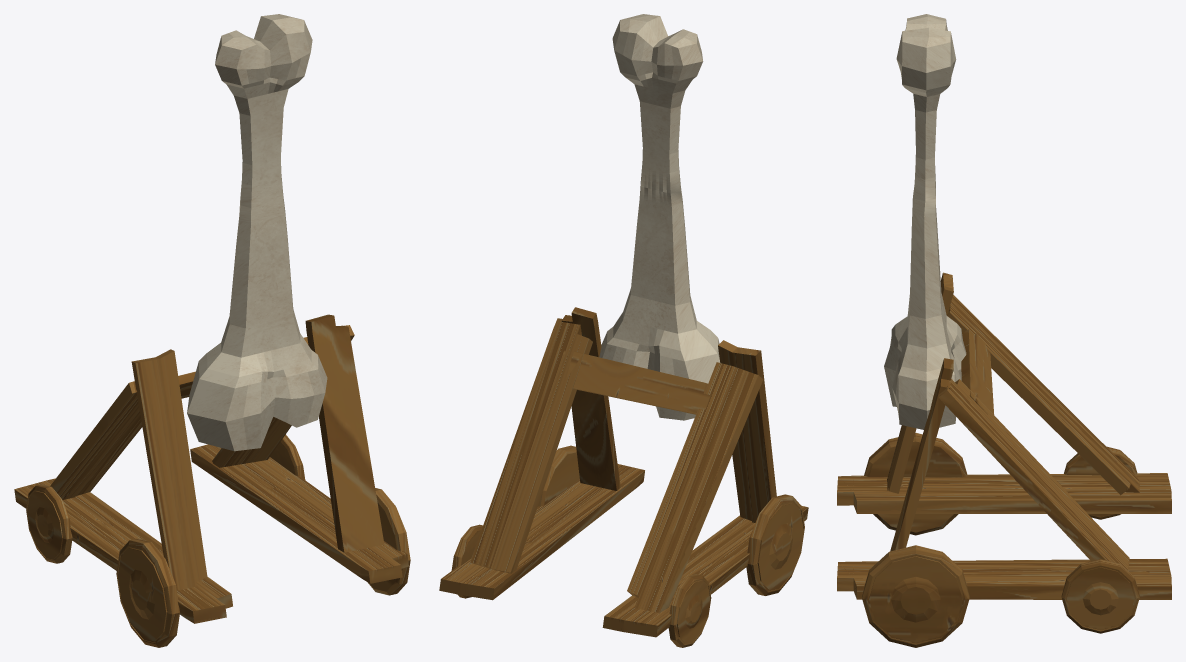
The model's file is BoneCrush.fbx.
3 views of the same model, side by side, from view 1: azimuth 30°, elevation 25°; view 2: azimuth 150°, elevation 25°; view 3: azimuth 270°, elevation 25° (orthographic). The views are drawn at different scales.
Parts seen in each view (by area): view 1: Wood, BoneTypeShi; view 2: Wood, BoneTypeShi; view 3: Wood, BoneTypeShi.
Part boxes in pixels (bbox=[...]): Wood: bbox=[14, 314, 410, 647]; BoneTypeShi: bbox=[187, 14, 327, 451]; Wood: bbox=[439, 307, 808, 647]; BoneTypeShi: bbox=[599, 14, 720, 420]; Wood: bbox=[837, 272, 1171, 647]; BoneTypeShi: bbox=[884, 14, 966, 429].
Bounding box in the file's own units: 906 × 2049 × 1089.
2 materials, 2 textured.
